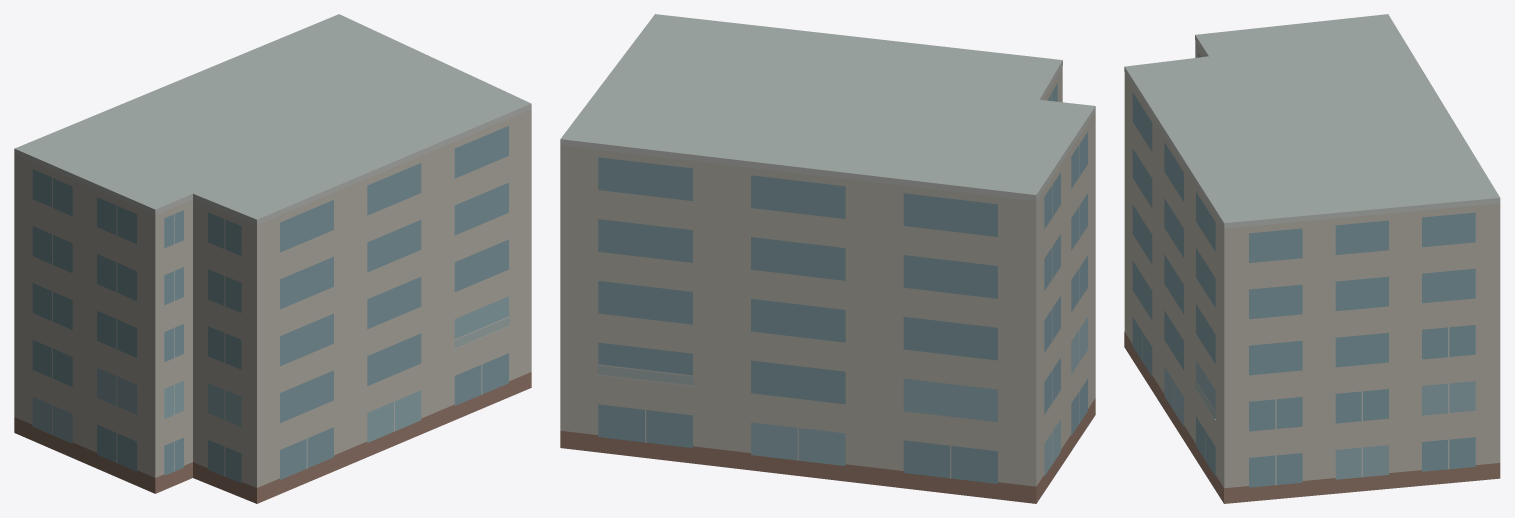
File: survey-upis-32916588.glb
The picture shows the model from 3 angles, left to right: view 1: azimuth 30°, elevation 25°; view 2: azimuth 150°, elevation 25°; view 3: azimuth 270°, elevation 25°; orthographic projection. The views are drawn at different scales.
Visible parts, largest first — view 1: survey-upis-32916588.tmp; view 2: survey-upis-32916588.tmp; view 3: survey-upis-32916588.tmp.
Part boxes in pixels (box(x1,y1,x2,y2)): survey-upis-32916588.tmp: box(14, 14, 531, 503); survey-upis-32916588.tmp: box(560, 14, 1095, 503); survey-upis-32916588.tmp: box(1124, 14, 1500, 503).
Size of the model in its own units: 19.99 by 12.5 by 15.17.
